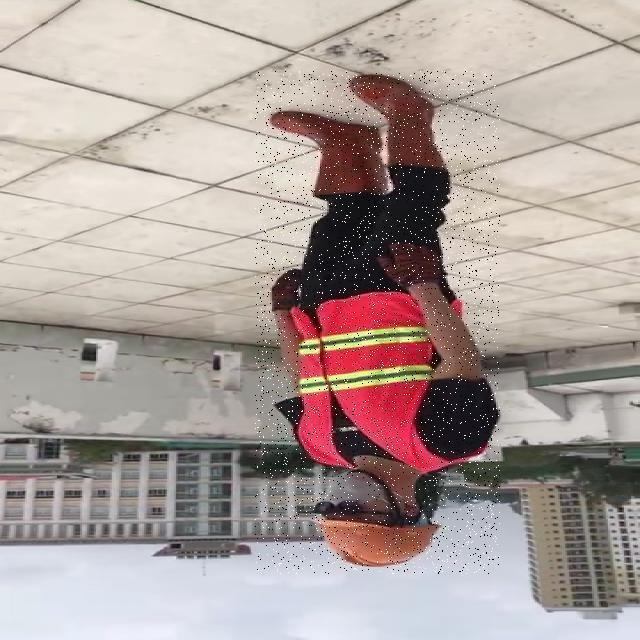gloves: (377, 237, 445, 294), (266, 268, 310, 314)
